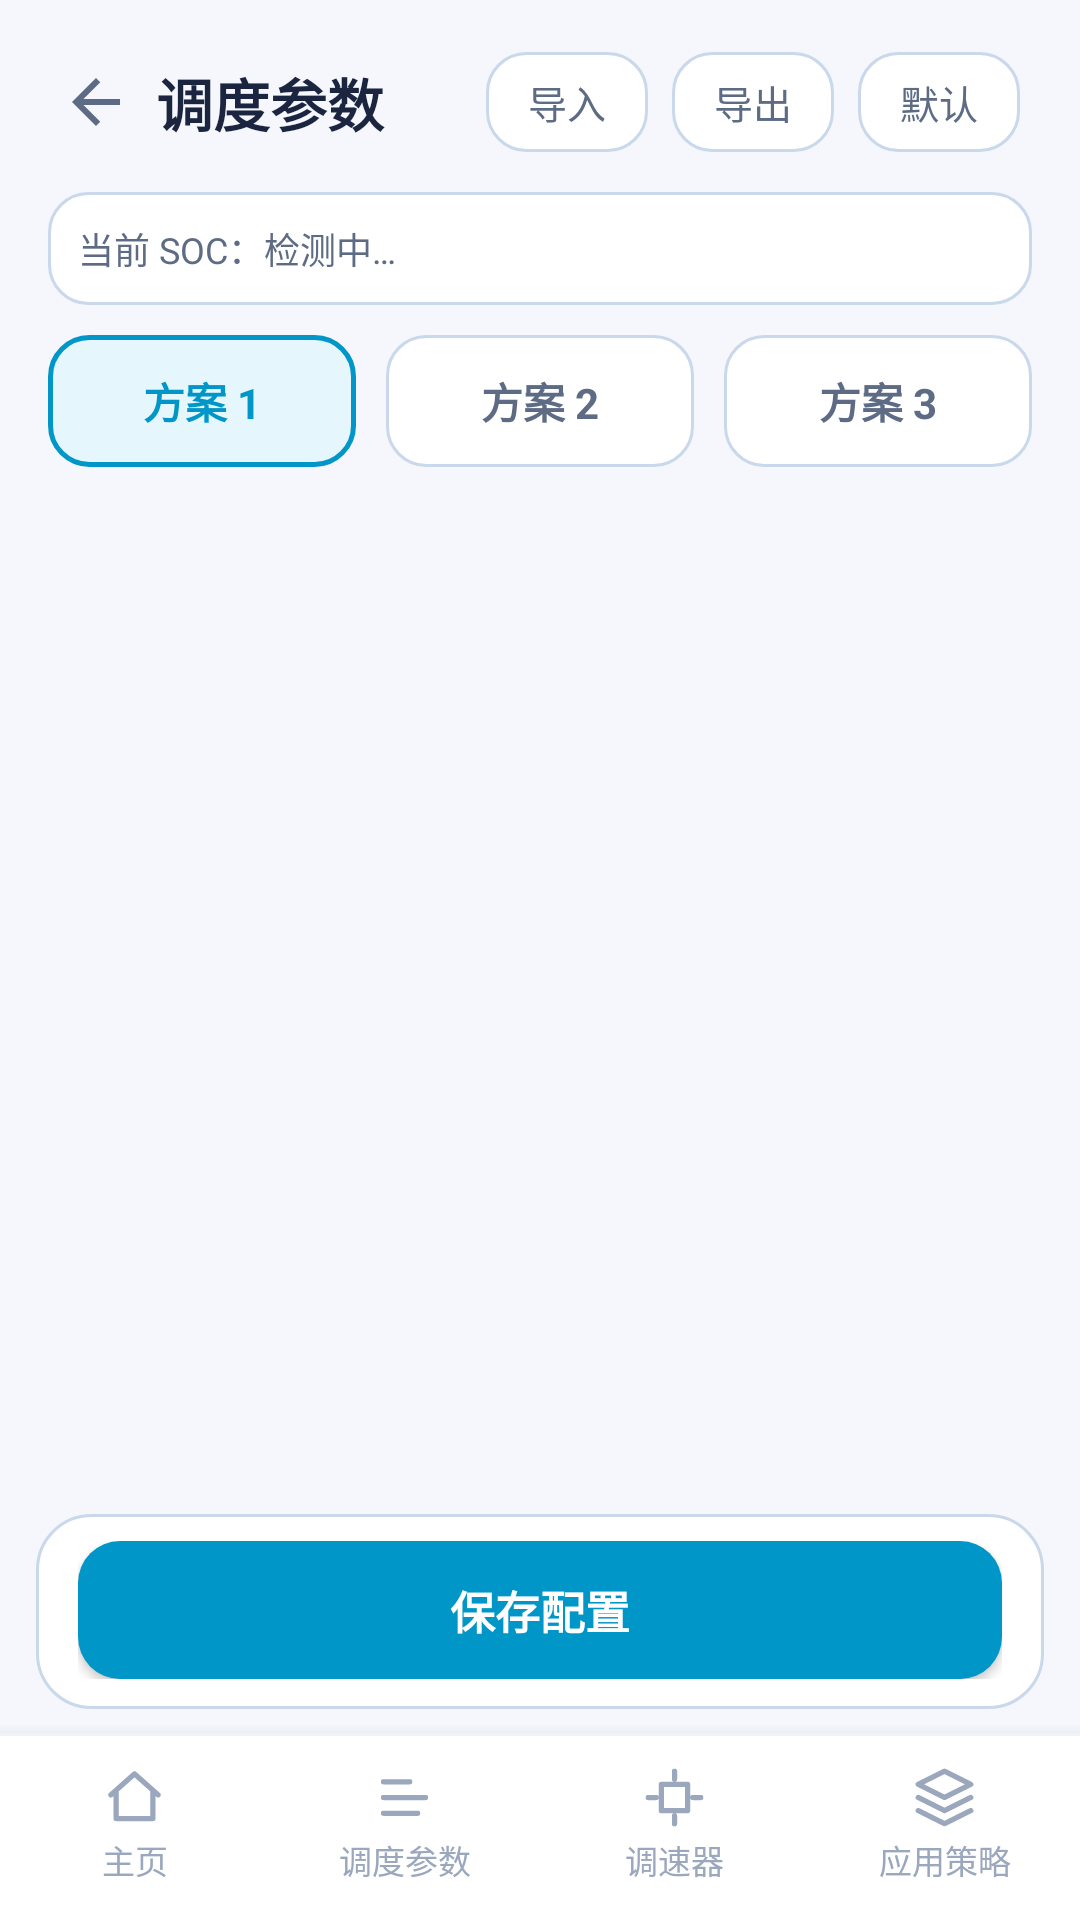

Where icons sit on this 1080 x 1920 app screen, as (x1, y1, x2, y2):
返回: (72, 78, 120, 126)
